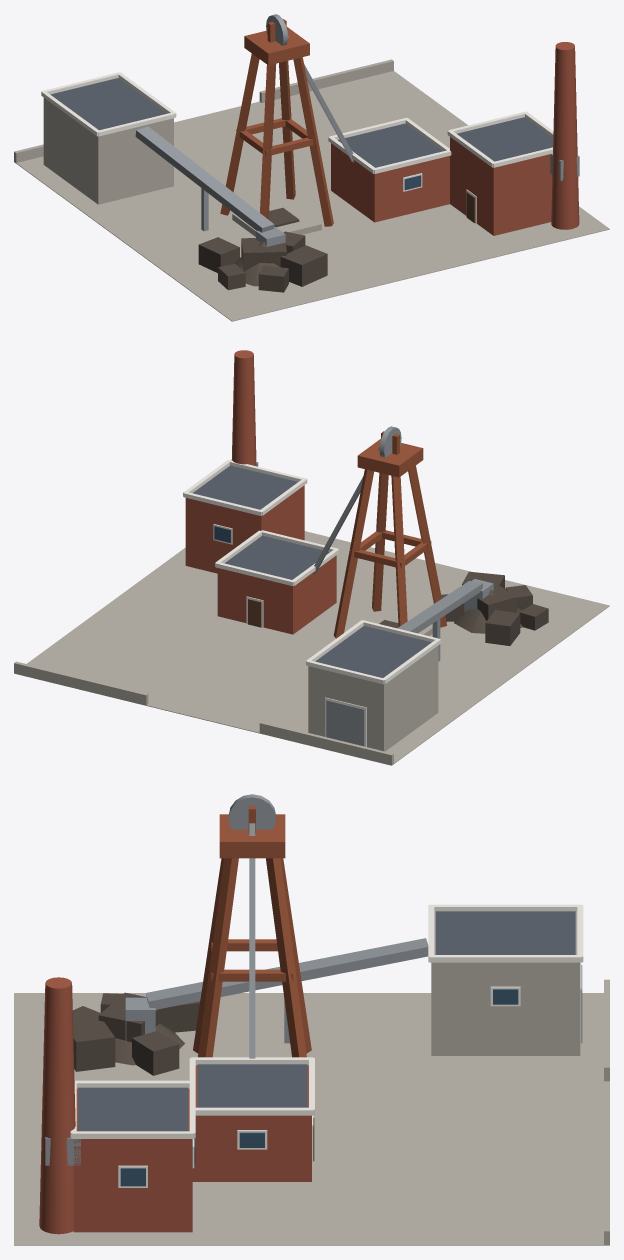
Rendered from oremine.glb.
The picture shows the model from 3 angles, top to bottom: view 1: azimuth 30°, elevation 25°; view 2: azimuth 150°, elevation 25°; view 3: azimuth 270°, elevation 25°; orthographic projection. The views are drawn at different scales.
Visible parts, largest first — view 1: yard, roof (×3), loading_shed, boiler_house, headframe_leg (×4), winding_house, ore_rock (×5), smoke_stack, parapet (×6), conveyor, headframe_top, yard_wall (+3 smaller); view 2: yard, roof (×3), loading_shed, headframe_leg (×4), winding_house, boiler_house, yard_wall (×2), ore_rock (×3), smoke_stack, headframe_top, garage_door, conveyor (+2 smaller); view 3: yard, roof (×3), loading_shed, boiler_house, headframe_leg (×4), smoke_stack, winding_house, parapet (×6), ore_rock (×4), conveyor, headframe_top, hoist_rope (+5 smaller).
Boxes of the visible parts, x1,y1,x2,y2 form: yard: (14,71,609,321); roof (×3): (50,78,553,167); loading_shed: (43,98,173,204); boiler_house: (450,137,552,235); headframe_leg (×4): (220,53,333,226); winding_house: (331,143,449,222); ore_rock (×5): (198,237,327,292); smoke_stack: (551,42,579,229); parapet (×6): (41,72,526,173); conveyor: (135,126,274,232); headframe_top: (244,27,309,65); yard_wall: (259,59,393,102); yard: (14,531,609,765); roof (×3): (193,465,431,677); loading_shed: (308,646,438,751); headframe_leg (×4): (333,465,447,638); winding_house: (217,555,336,634); boiler_house: (185,485,304,573); yard_wall (×2): (14,661,393,764); ore_rock (×3): (477,581,548,645); smoke_stack: (231,350,256,466); headframe_top: (357,439,423,477); garage_door: (326,700,364,746); conveyor: (397,581,482,633); yard: (14,993,609,1245); roof (×3): (78,911,575,1131); loading_shed: (431,912,580,1055); boiler_house: (73,1088,192,1232); headframe_leg (×4): (193,858,311,1057); smoke_stack: (39,977,75,1234); winding_house: (192,1065,311,1181); parapet (×6): (72,904,581,1138); ore_rock (×4): (73,992,199,1075); conveyor: (146,938,428,1009); headframe_top: (219,814,285,858); hoist_rope: (249,823,255,1058).
Bounding box in the file's own units: 40 × 21.2 × 40.
